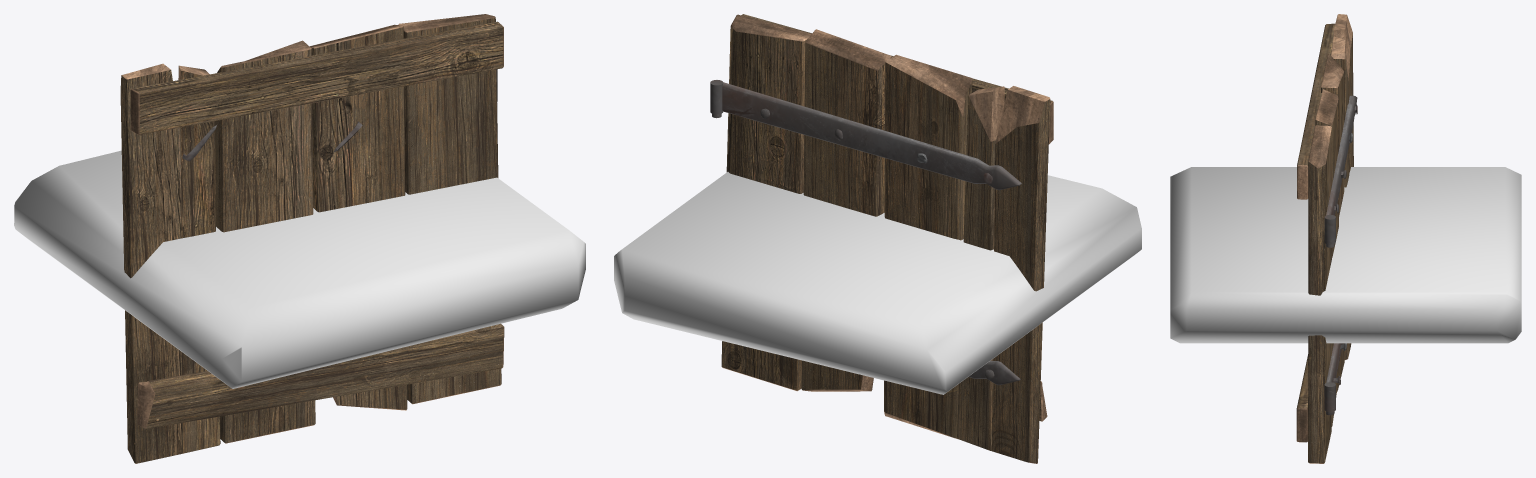
File: SM_Wall_Window_B_P3_.fbx
3 renders of one model, left to right at view 1: azimuth 30°, elevation 25°; view 2: azimuth 150°, elevation 25°; view 3: azimuth 270°, elevation 25°, orthographic. The views are drawn at different scales.
Visible parts, largest first — view 1: SM_Wall_Window_B_P3_, SM_Wall_Window_B_P3__ConvexHulls; view 2: SM_Wall_Window_B_P3_, SM_Wall_Window_B_P3__ConvexHulls; view 3: SM_Wall_Window_B_P3__ConvexHulls, SM_Wall_Window_B_P3_.
Boxes of the visible parts, <box> form: SM_Wall_Window_B_P3_: <box>120,14,504,463</box>; SM_Wall_Window_B_P3__ConvexHulls: <box>14,150,585,388</box>; SM_Wall_Window_B_P3_: <box>710,14,1053,463</box>; SM_Wall_Window_B_P3__ConvexHulls: <box>614,172,1141,394</box>; SM_Wall_Window_B_P3__ConvexHulls: <box>1170,167,1521,343</box>; SM_Wall_Window_B_P3_: <box>1296,14,1357,463</box>.
Size of the model in its own units: 0.9045 by 0.9242 by 0.9262.
